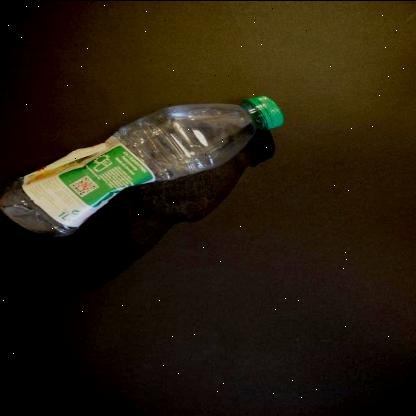Plastic Bottle: (0, 94, 284, 235)
